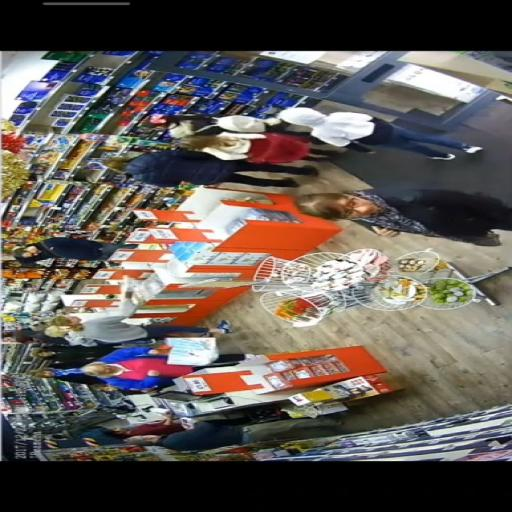workers: (41, 345, 251, 392), (45, 313, 231, 347), (46, 412, 190, 448)
